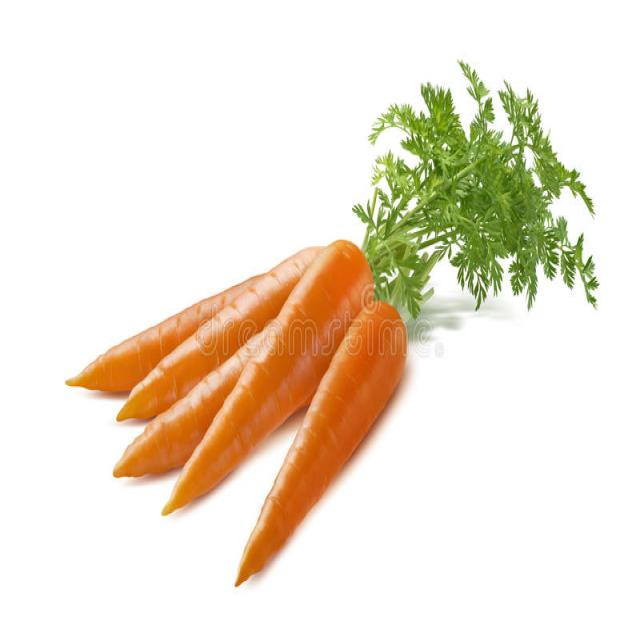Fresh_Carrot: (253, 322, 437, 631), (160, 267, 390, 509)
